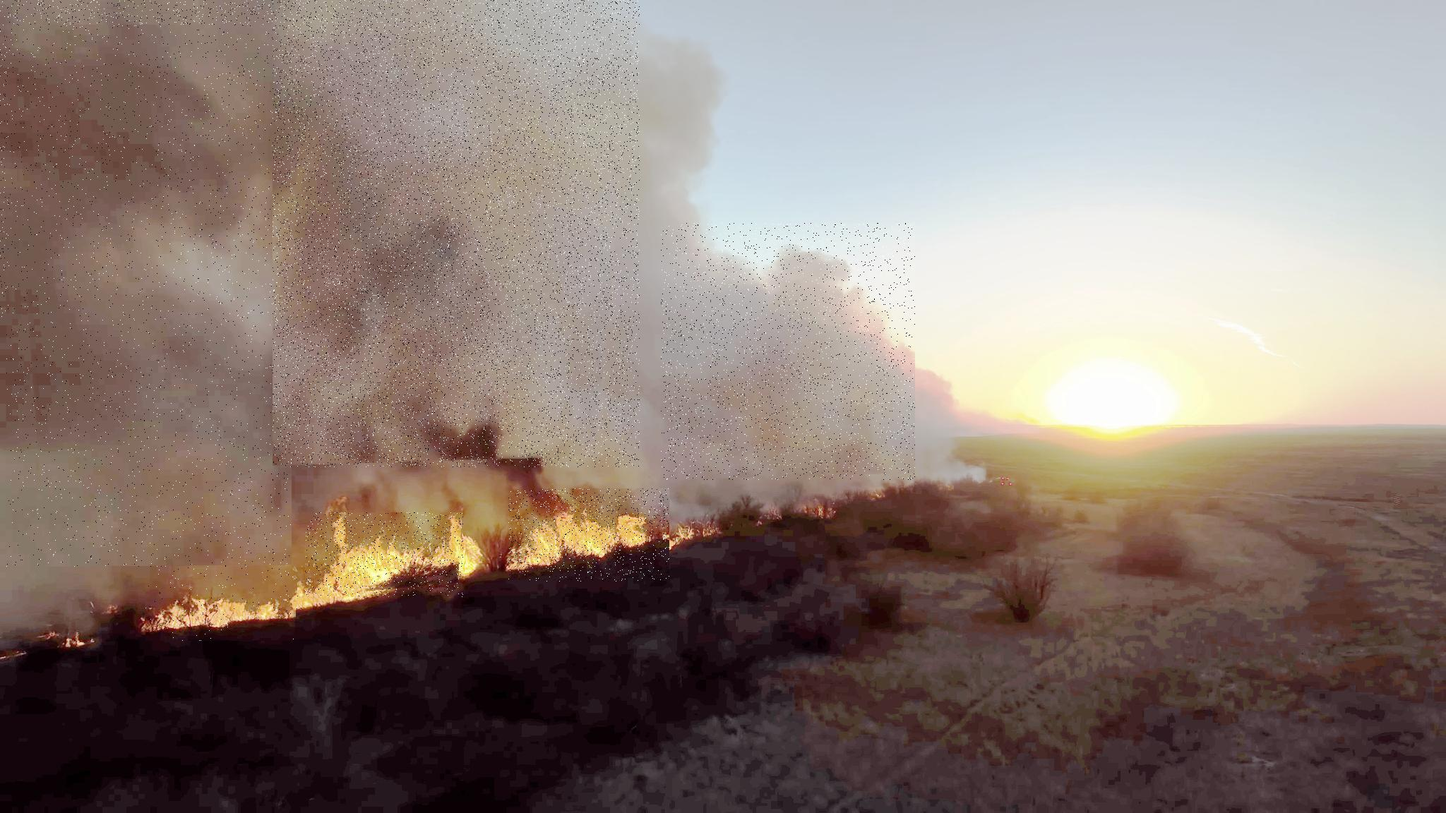fire: (508, 488, 669, 582), (305, 512, 463, 597), (145, 567, 298, 641)
smoke: (0, 0, 614, 319), (272, 0, 640, 467), (6, 25, 292, 567), (661, 223, 915, 480)
